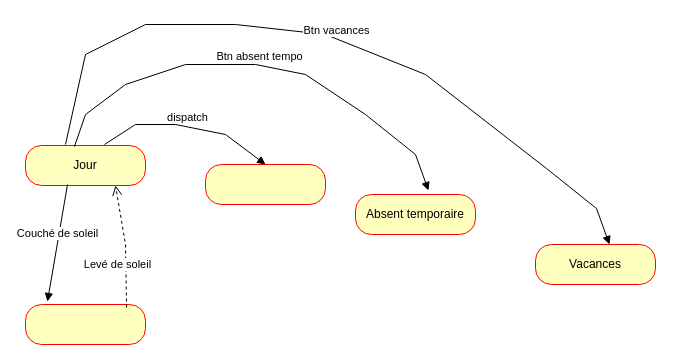
This 673x362 diagram has some shape labels left out. The centre of each missing label's shape, as x and y in pixels:
Nuit: pixel 85 324
Présent: pixel 265 184
